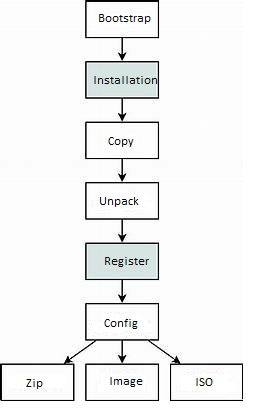arrow: (146, 339, 183, 366), (62, 340, 100, 365), (117, 340, 129, 364), (116, 36, 127, 62), (117, 159, 128, 185), (117, 279, 128, 305), (117, 217, 127, 243), (117, 98, 127, 122)
process: (82, 119, 162, 162), (83, 180, 161, 222), (83, 302, 161, 344), (83, 362, 161, 404), (83, 59, 162, 100), (167, 362, 246, 403), (83, 241, 161, 282), (1, 362, 76, 403), (84, 1, 161, 40)
text: (96, 10, 153, 27), (91, 74, 160, 86), (103, 255, 150, 269), (97, 195, 141, 209), (107, 376, 146, 389), (102, 317, 138, 331), (107, 134, 134, 149), (24, 377, 44, 391), (193, 376, 215, 388)
